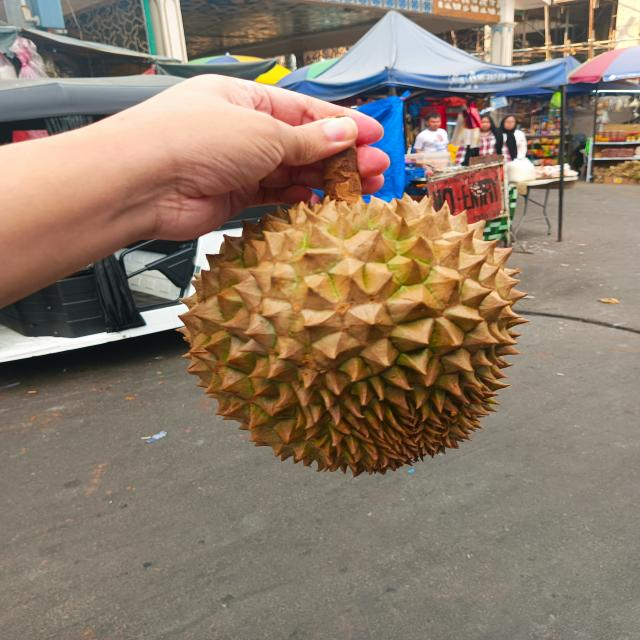mature: (176, 190, 524, 474)
